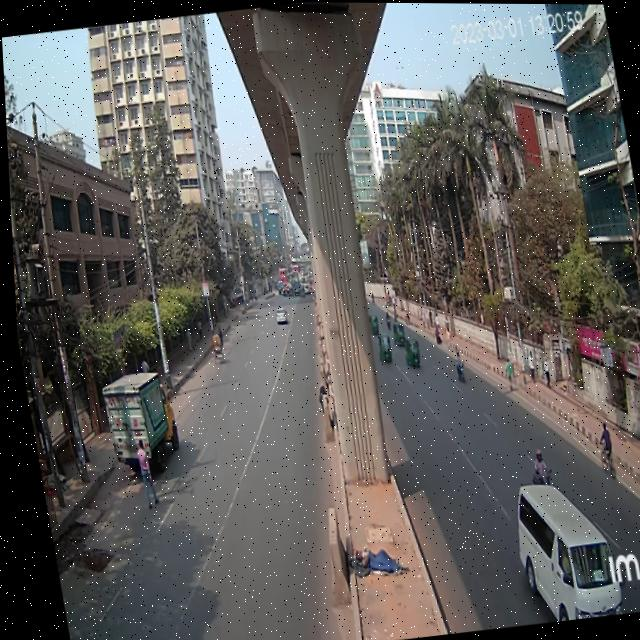cng: (397, 332, 419, 370), (384, 316, 404, 356), (371, 330, 391, 368)
rikshaw: (205, 329, 224, 367)
